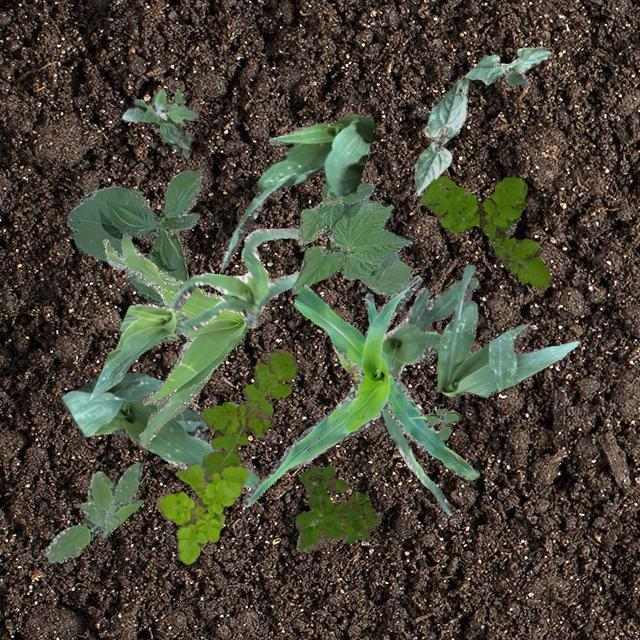crop: (242, 274, 478, 506), (343, 276, 478, 514), (220, 114, 372, 266), (59, 372, 258, 486), (436, 264, 578, 396), (66, 170, 202, 306), (168, 226, 298, 334), (290, 182, 412, 294), (89, 304, 191, 399), (412, 74, 468, 194), (464, 46, 550, 86), (333, 346, 359, 380)
weed: (101, 235, 248, 448), (421, 175, 552, 292), (200, 348, 296, 478), (44, 461, 142, 562), (154, 462, 246, 564), (294, 464, 378, 552), (120, 88, 196, 158), (423, 408, 459, 438)
